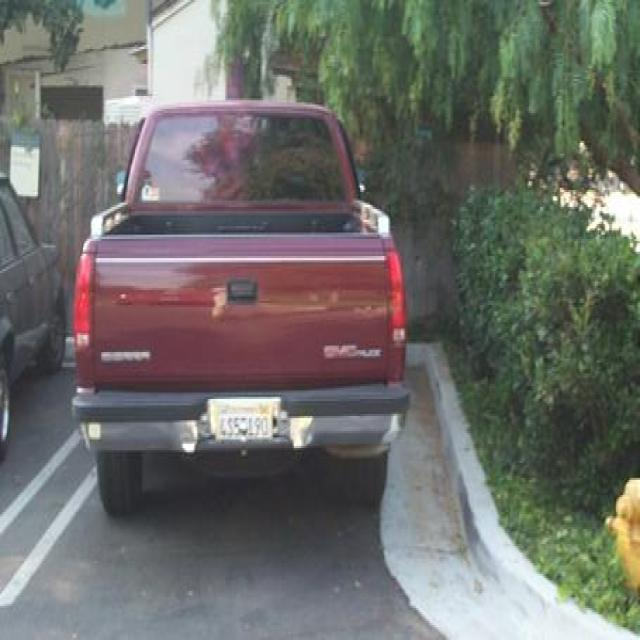car_back: (71, 89, 422, 531)
